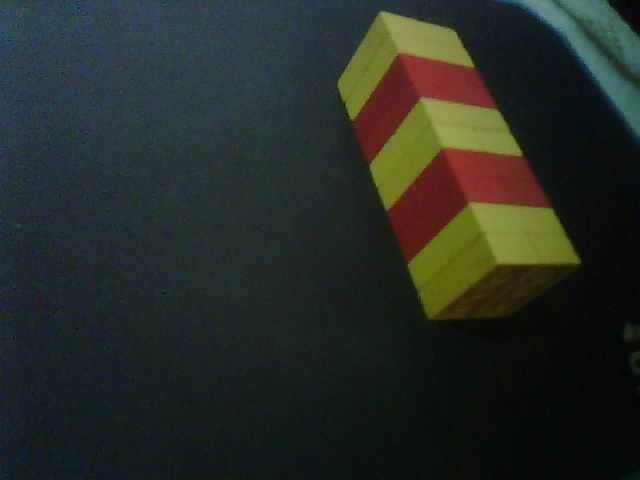lego: (336, 10, 581, 323)
